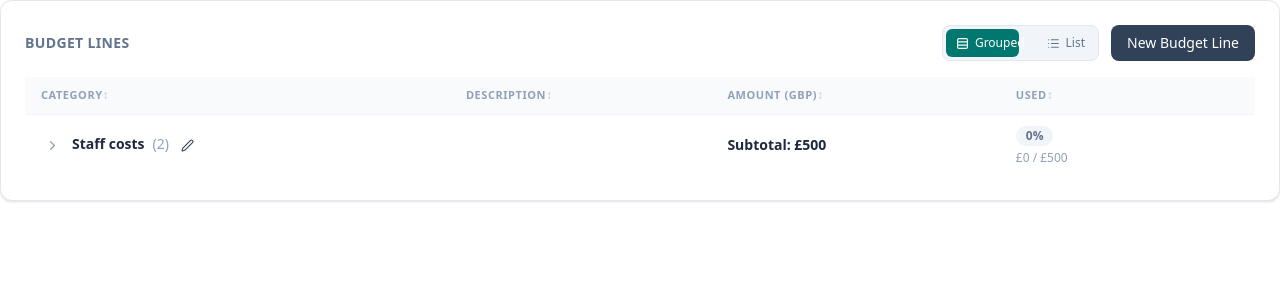
BudgetViewLinesTable Grouped/List toggle › switches to List, showing a flat list with no subtotal rows
Click the button "List" at [1066, 43], box [1037,29,1095,57]
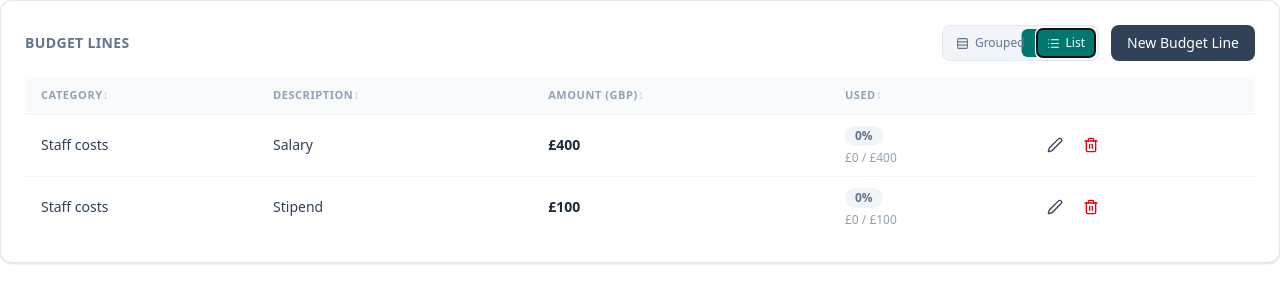
Now the text "Subtotal:" is gone
Now the text "Salary" is shown, box [257,114,532,176]
Now the text "Stipend" is shown, box [257,176,532,238]
